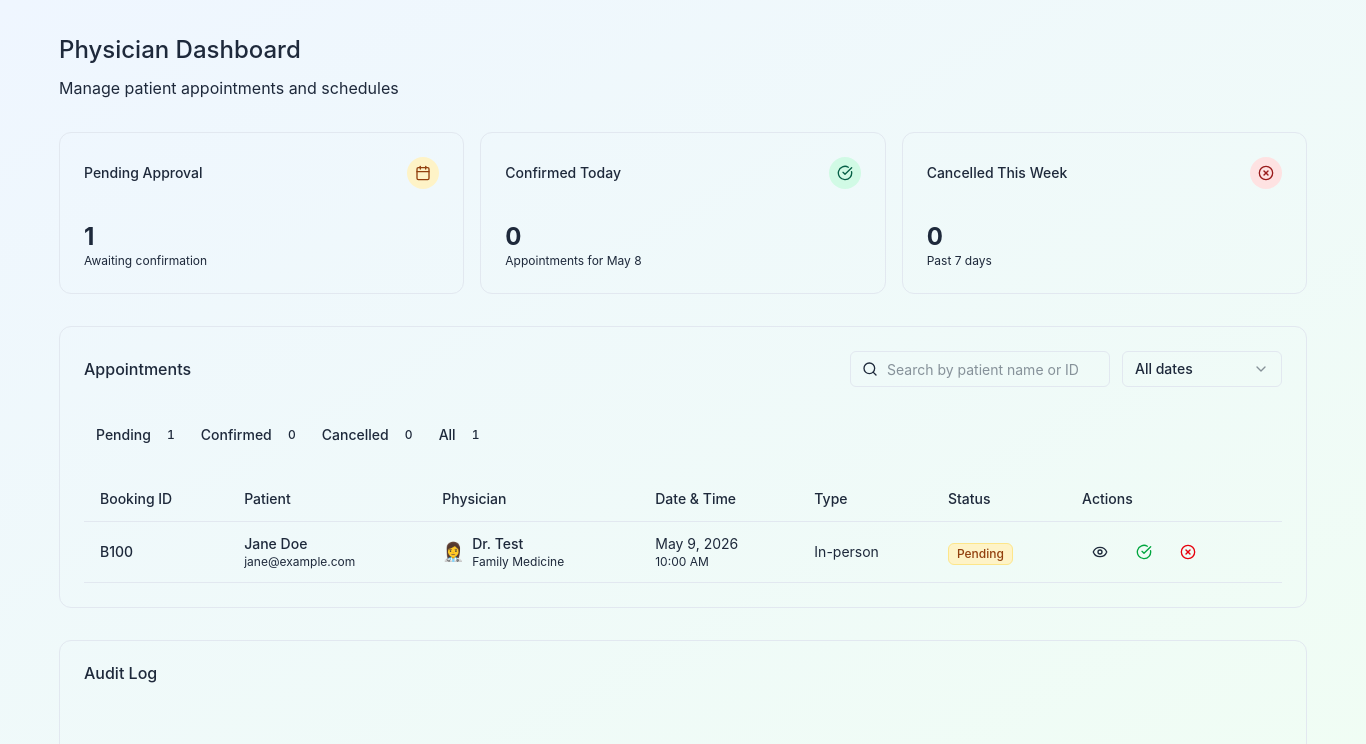
Test: AdminView › confirming a pending booking moves it from Pending to Confirmed
Expected: the cell "B100" is shown, [84, 522, 228, 582]
Click the button named "confirm appointment B100". click: (1144, 552)
box: [1126, 536, 1162, 568]
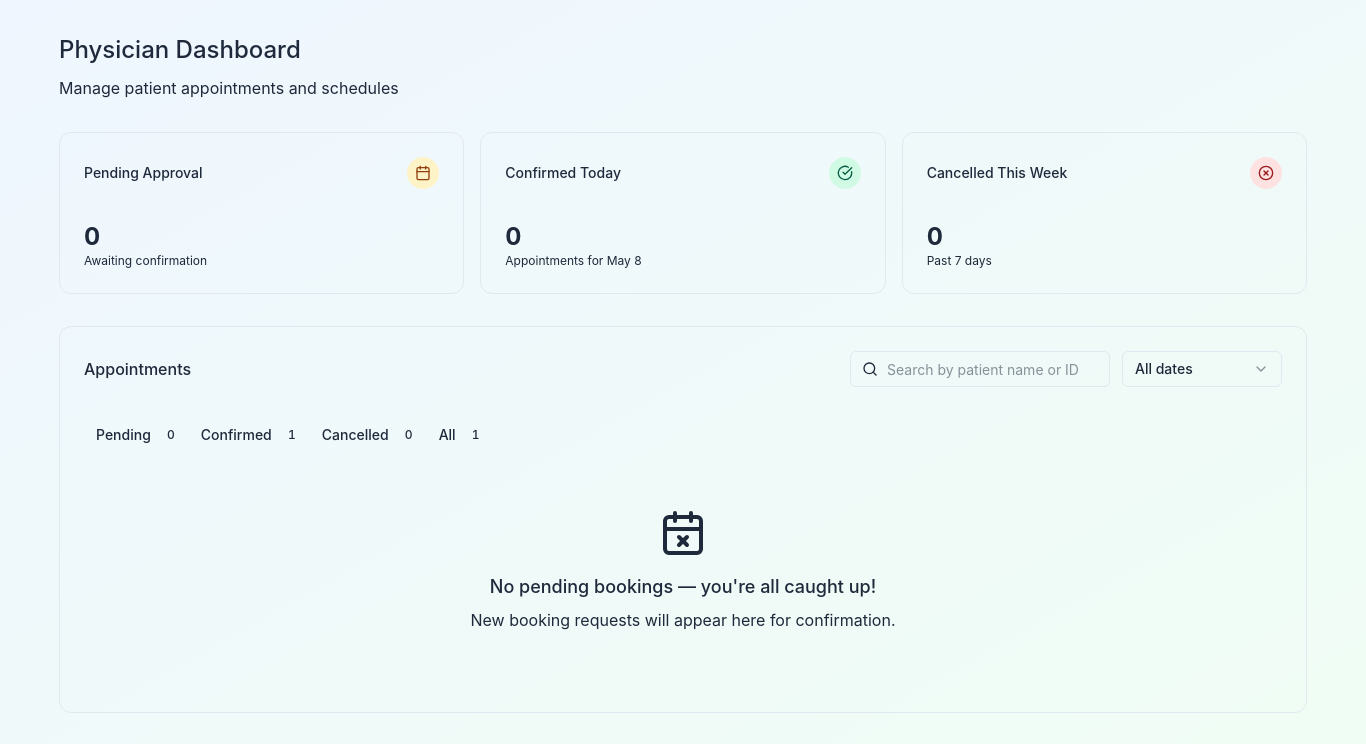
Expected: the cell "B100" is gone
# Switch to Confirmed and verify it now appears there.
Click the tab "Confirmed 1". click: (252, 435)
box: [192, 420, 313, 450]
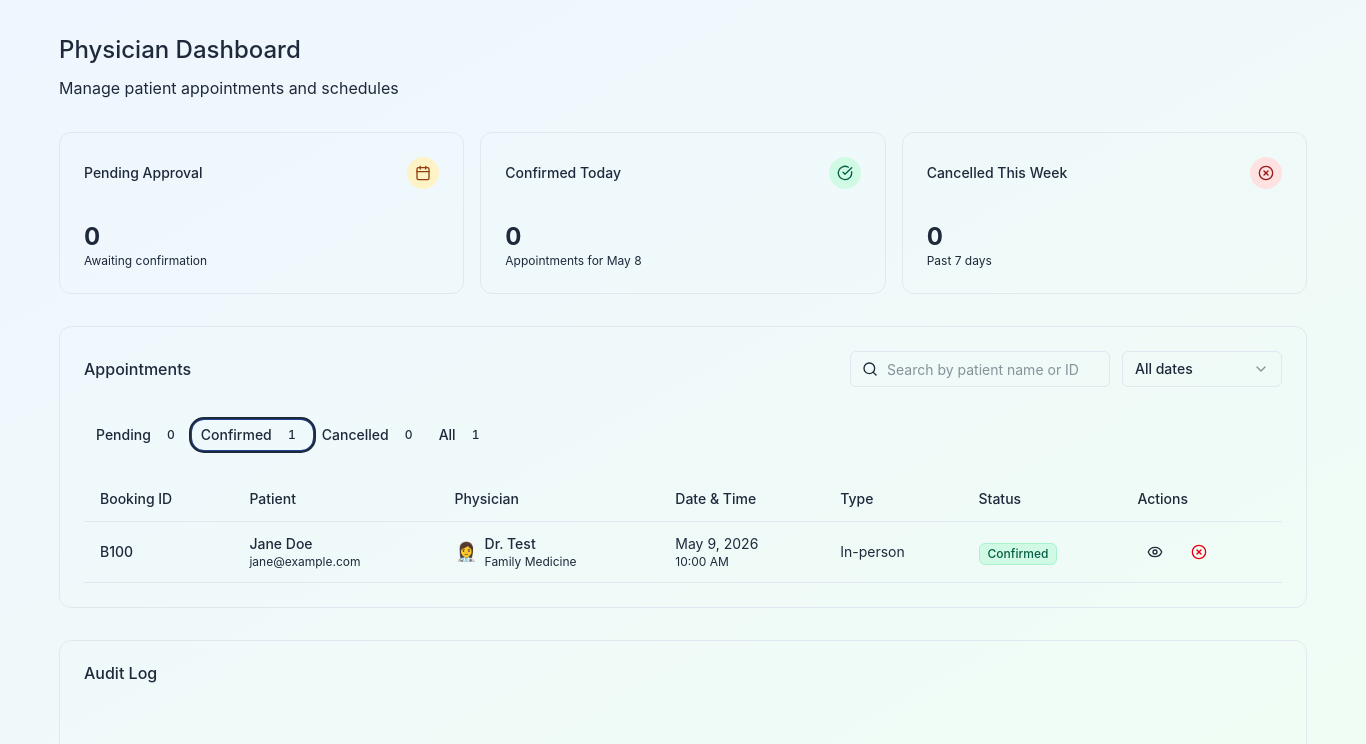
Expected: the cell "B100" is shown, [84, 522, 233, 582]
